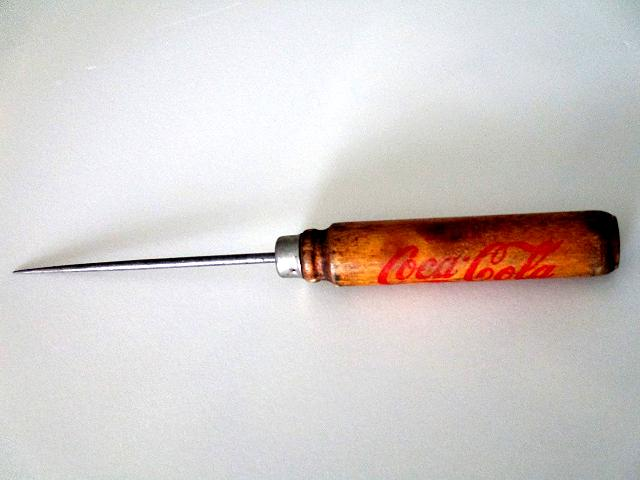ice pick: (10, 210, 620, 286)
